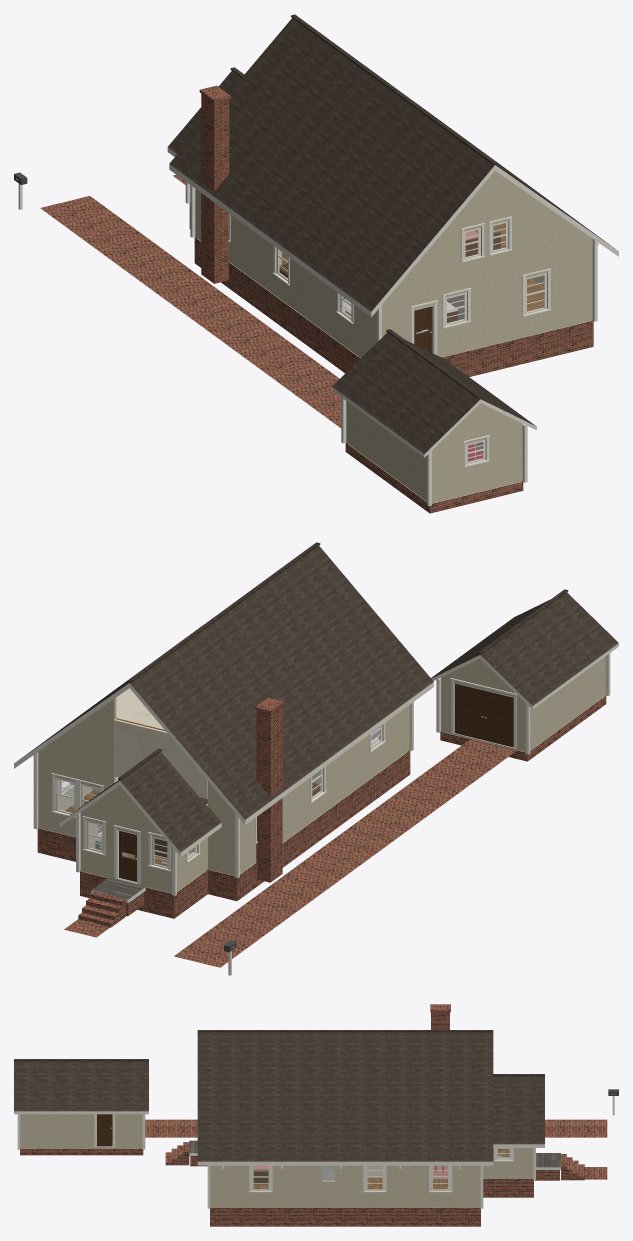
Rendered from P-HOUSE2.glb.
3 views of the same model, one above another, from view 1: azimuth 30°, elevation 25°; view 2: azimuth 150°, elevation 25°; view 3: azimuth 270°, elevation 25° (orthographic). The views are drawn at different scales.
Parts seen in each view (by area): view 1: roof_main-col, shell-col, driveway-col, roof_garage-col, chimneys-col, windows, glass, floors-col, roof_porch-col, door_back__p; view 2: roof_main-col, shell-col, driveway-col, roof_garage-col, roof_porch-col, chimneys-col, partitions-col, windows, porch_0-col, floors-col, door_garage_main_L__n, door_garage_main_R__p (+3 smaller); view 3: roof_main-col, shell-col, roof_garage-col, roof_porch-col, driveway-col, windows, porch_0-col, floors-col, glass, porch_1-col, door_garage_side__p, chimneys-col.
Boxes of the visible parts, box(x1,y1,x2,y2) form: roof_main-col: box(169, 14, 618, 317); shell-col: box(185, 170, 597, 513); driveway-col: box(40, 196, 341, 428); roof_garage-col: box(332, 329, 536, 457); chimneys-col: box(199, 85, 230, 283); windows: box(227, 213, 551, 467); glass: box(279, 224, 543, 461); floors-col: box(196, 223, 590, 503); roof_porch-col: box(167, 67, 244, 156); door_back__p: box(414, 306, 432, 352); roof_main-col: box(14, 542, 433, 824); shell-col: box(33, 653, 610, 918); driveway-col: box(174, 739, 515, 967); roof_garage-col: box(431, 589, 618, 709); roof_porch-col: box(59, 748, 221, 856); chimneys-col: box(255, 697, 283, 882); partitions-col: box(92, 719, 319, 868); windows: box(51, 723, 385, 871); porch_0-col: box(78, 877, 145, 927); floors-col: box(40, 688, 604, 893); door_garage_main_L__n: box(455, 683, 484, 739); door_garage_main_R__p: box(484, 690, 513, 747); roof_main-col: box(197, 1030, 493, 1165); shell-col: box(17, 1114, 535, 1226); roof_garage-col: box(14, 1059, 148, 1114); roof_porch-col: box(493, 1074, 544, 1147); driveway-col: box(145, 1119, 607, 1137); windows: box(249, 1148, 513, 1192); porch_0-col: box(534, 1153, 584, 1180); floors-col: box(20, 1139, 532, 1207); glass: box(254, 1149, 508, 1188); porch_1-col: box(165, 1140, 207, 1166); door_garage_side__p: box(97, 1114, 112, 1146); chimneys-col: box(430, 1004, 450, 1029).
Size of what is drawn, in the model's own units: 12.8 by 8.26 by 28.65.
29 materials, 13 textured.
